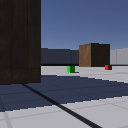green_cube: (67, 65, 75, 73)
obstacle: (1, 1, 41, 85), (79, 43, 110, 67)
red_cube: (105, 65, 112, 70)
